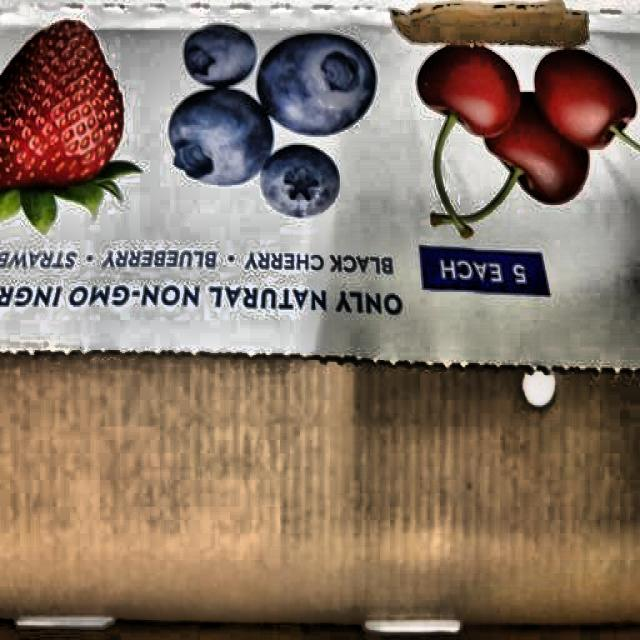cardboard: (1, 4, 637, 640)
